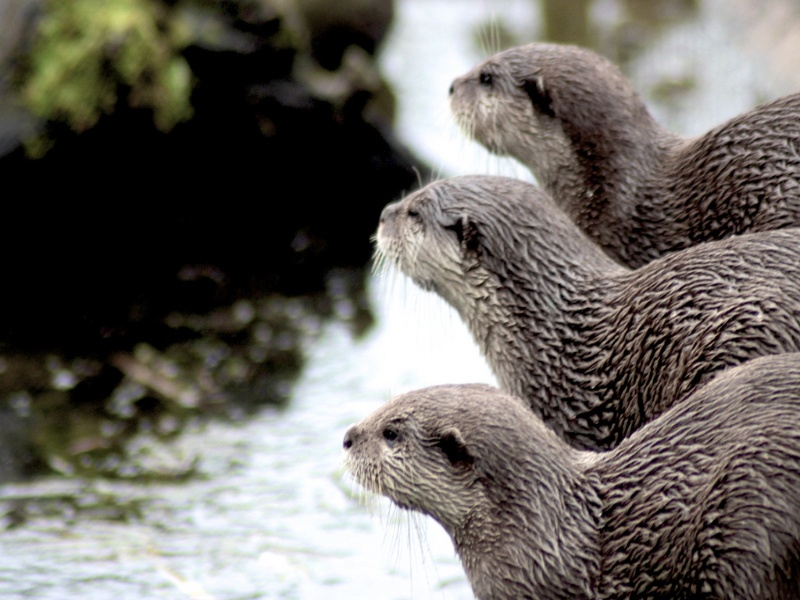minkish: (358, 163, 800, 433), (338, 362, 800, 586), (430, 41, 800, 246)
